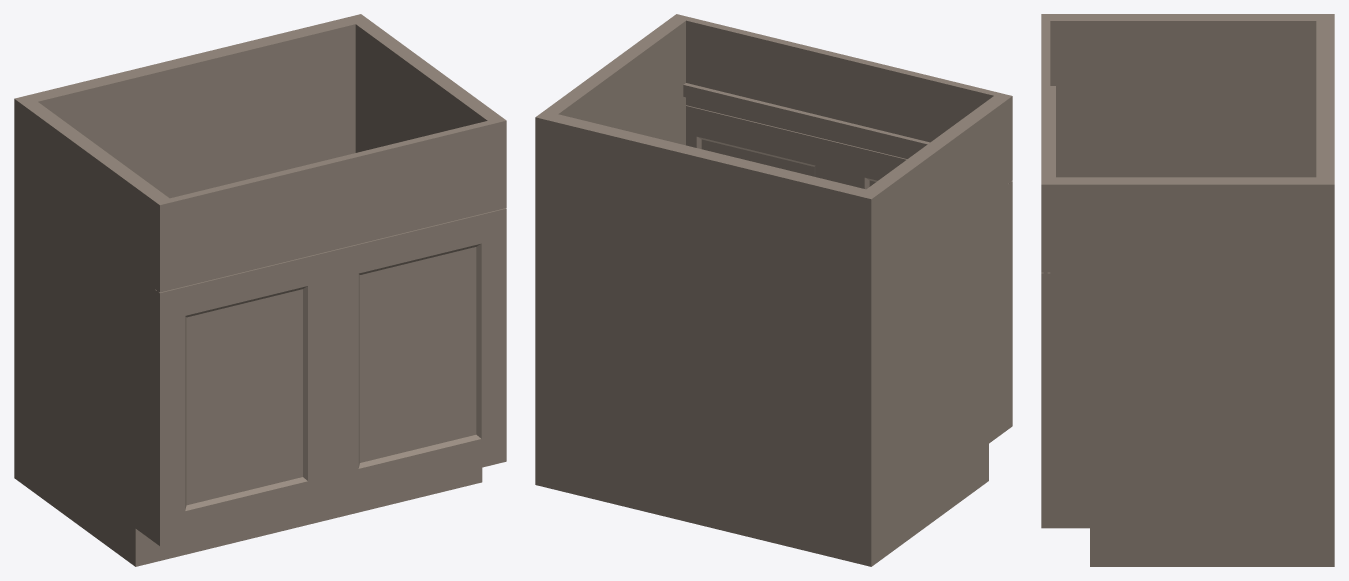
Rendered from Sink-Base-Cabinet-Double-Door-False-Drawer_std_001_W33in.glb.
3 renders of one model, left to right at view 1: azimuth 30°, elevation 25°; view 2: azimuth 150°, elevation 25°; view 3: azimuth 270°, elevation 25°, orthographic. The views are drawn at different scales.
Parts seen in each view (by area): view 1: Sink-Base-Cabinet-Double-Door-False-Drawer.std.001_W33in; view 2: Sink-Base-Cabinet-Double-Door-False-Drawer.std.001_W33in; view 3: Sink-Base-Cabinet-Double-Door-False-Drawer.std.001_W33in.
Boxes of the visible parts, x1=… form: Sink-Base-Cabinet-Double-Door-False-Drawer.std.001_W33in: x1=14, y1=14, x2=506, y2=566; Sink-Base-Cabinet-Double-Door-False-Drawer.std.001_W33in: x1=535, y1=14, x2=1012, y2=566; Sink-Base-Cabinet-Double-Door-False-Drawer.std.001_W33in: x1=1041, y1=14, x2=1334, y2=566.
Bounding box in the file's own units: 0.8382 × 0.8763 × 0.6096.
